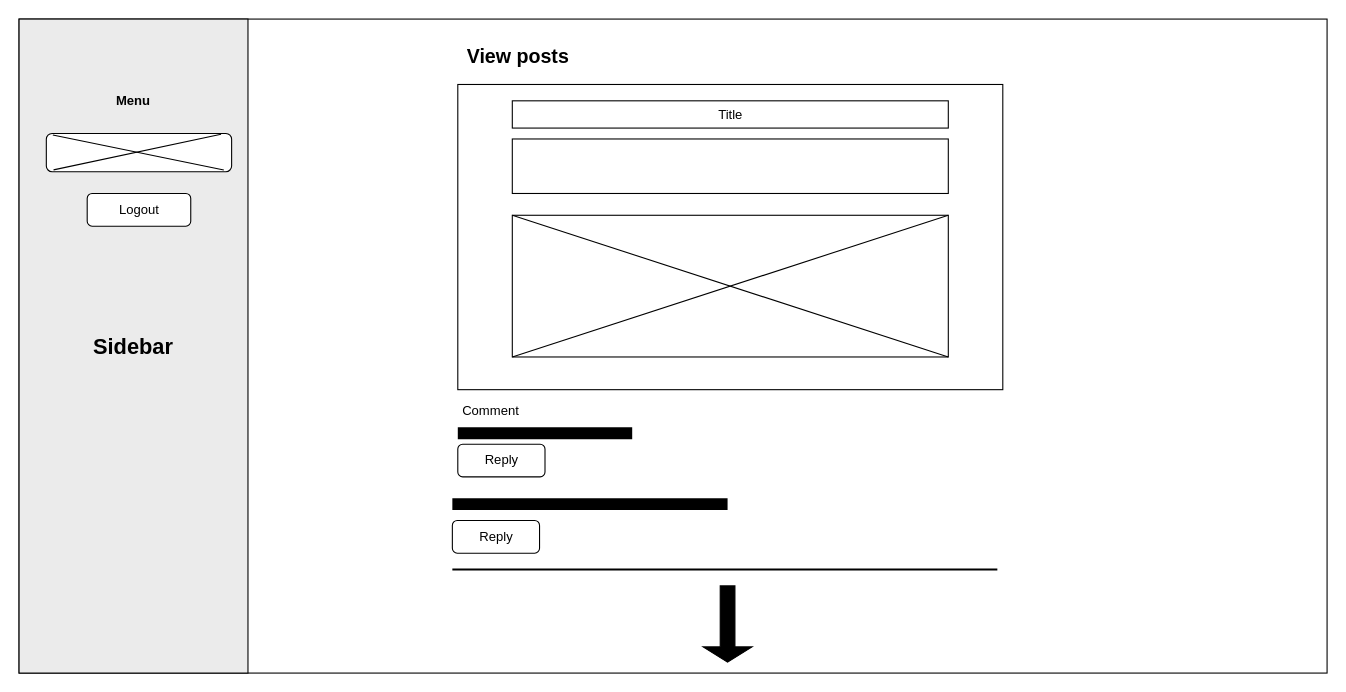
Some shapes in this 1346 by 692 pixel diagram are drawn without their labels. The shapes that lost their labels are listed below. From the top down, each one's centre as x and y in pixels, then its label:
point 729,165: Description
point 729,285: Image
